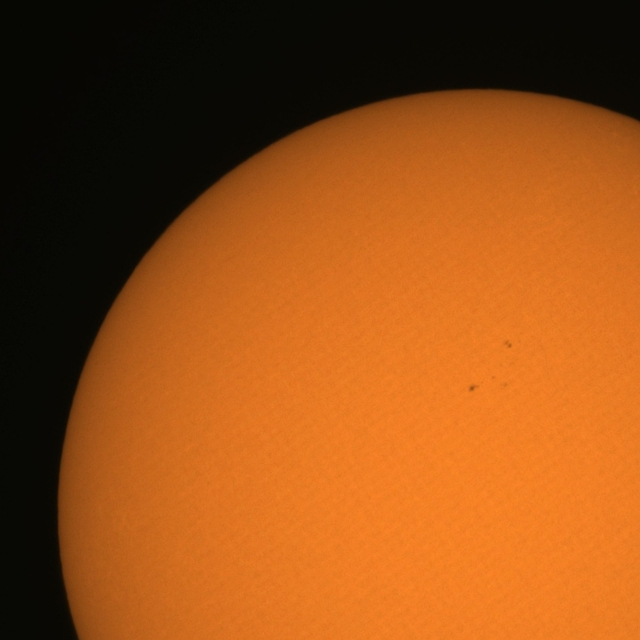sunspot: (468, 382, 481, 394), (503, 338, 513, 349)
